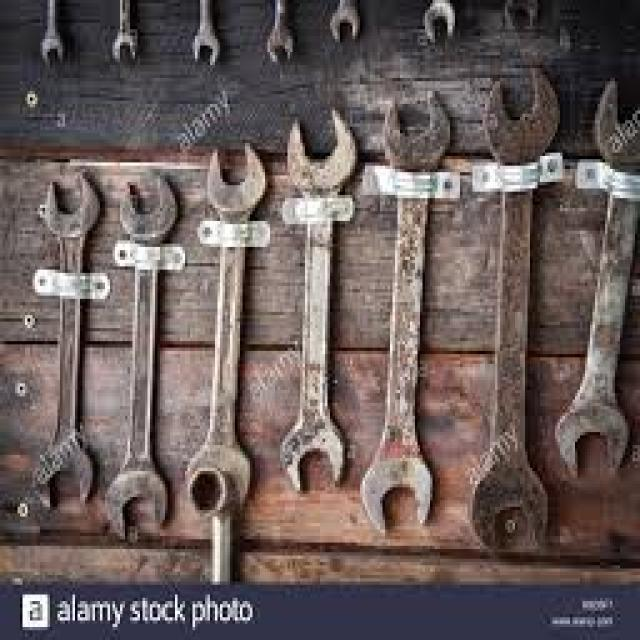wrench: (466, 63, 564, 558), (358, 87, 458, 544), (552, 72, 640, 484), (185, 136, 272, 514), (277, 102, 359, 494), (104, 169, 180, 541), (29, 167, 109, 514), (260, 0, 297, 71), (30, 0, 70, 65), (107, 0, 145, 68), (188, 0, 224, 69), (423, 0, 458, 47), (326, 0, 362, 43)
